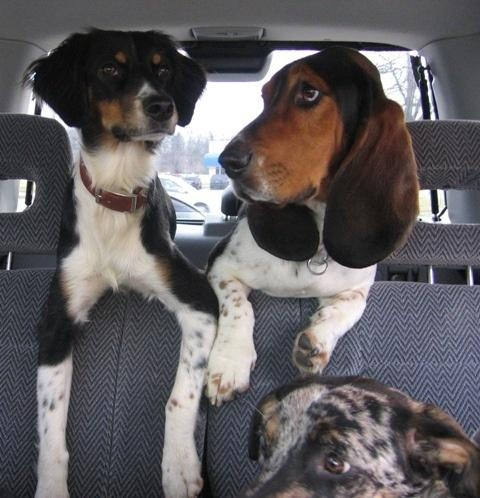dog: (25, 26, 216, 498), (199, 42, 422, 404), (241, 375, 480, 498)
